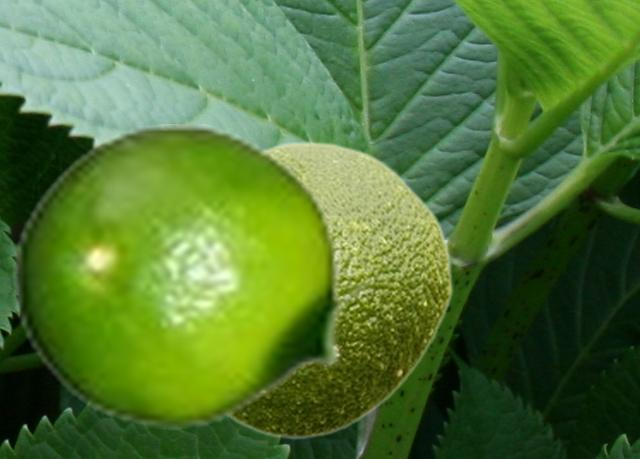calamansi: (11, 124, 378, 429), (225, 140, 452, 440)
